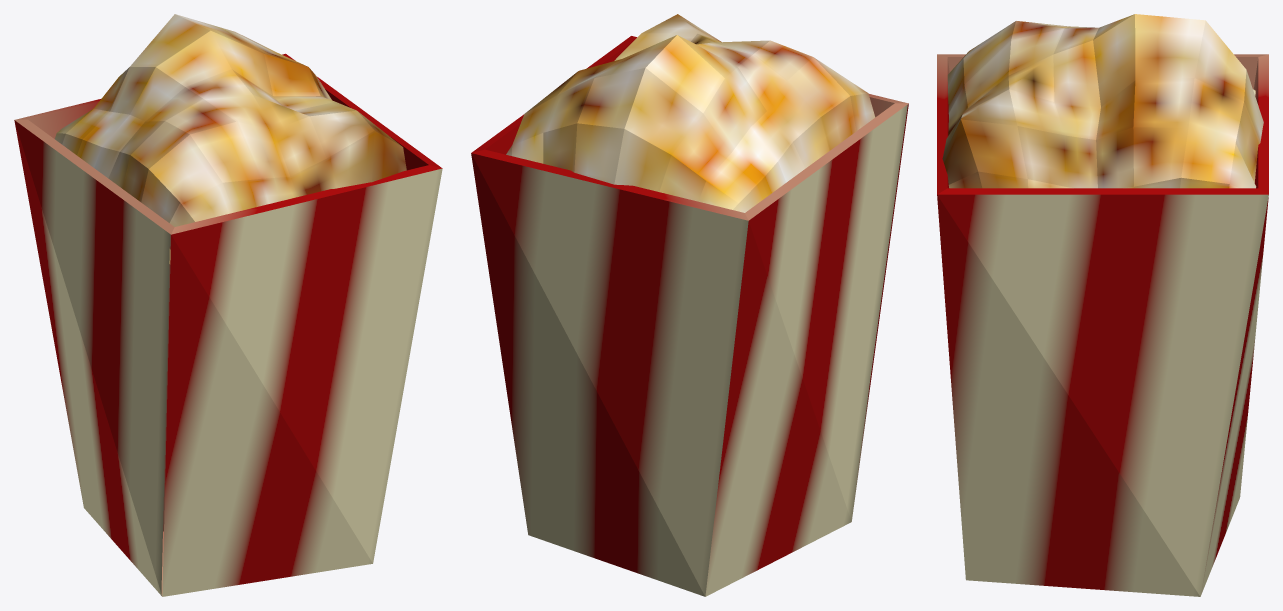
Rendered from popcorn.obj.
3 renders of one model, left to right at view 1: azimuth 30°, elevation 25°; view 2: azimuth 150°, elevation 25°; view 3: azimuth 270°, elevation 25°, orthographic. The views are drawn at different scales.
Visible parts, largest first — view 1: Cube_Mesh; view 2: Cube_Mesh; view 3: Cube_Mesh.
Part boxes in pixels (x1=…): Cube_Mesh: x1=14, y1=14, x2=442, y2=596; Cube_Mesh: x1=471, y1=14, x2=908, y2=596; Cube_Mesh: x1=937, y1=14, x2=1268, y2=596.
Size of the model in its own units: 0.1595 by 0.2777 by 0.1595.
